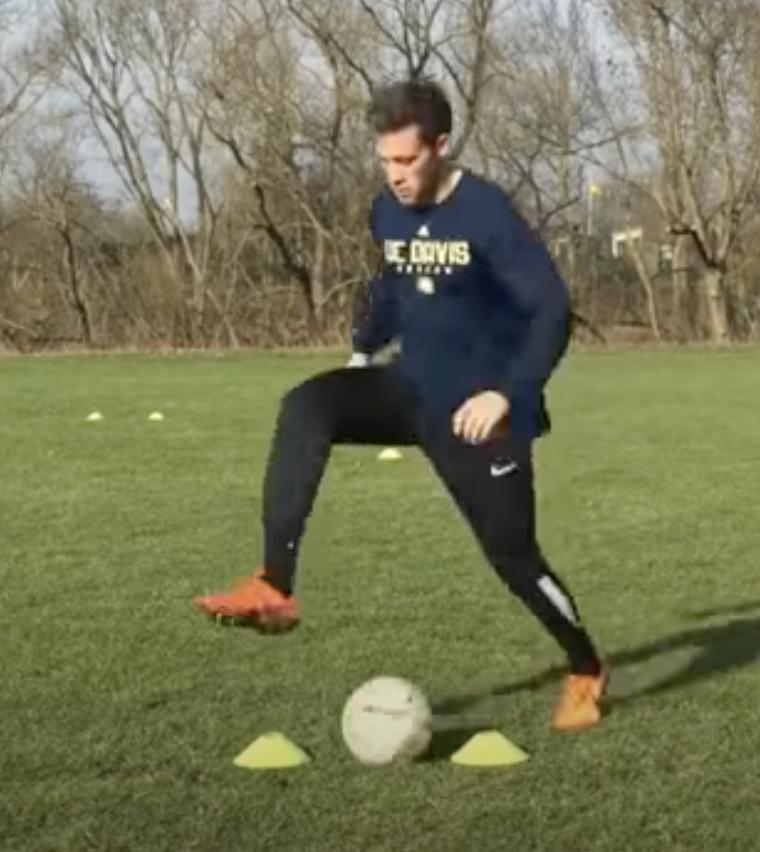ball: (343, 680, 433, 772)
foot: (198, 567, 300, 635), (552, 657, 608, 727)
person: (199, 81, 605, 726)
